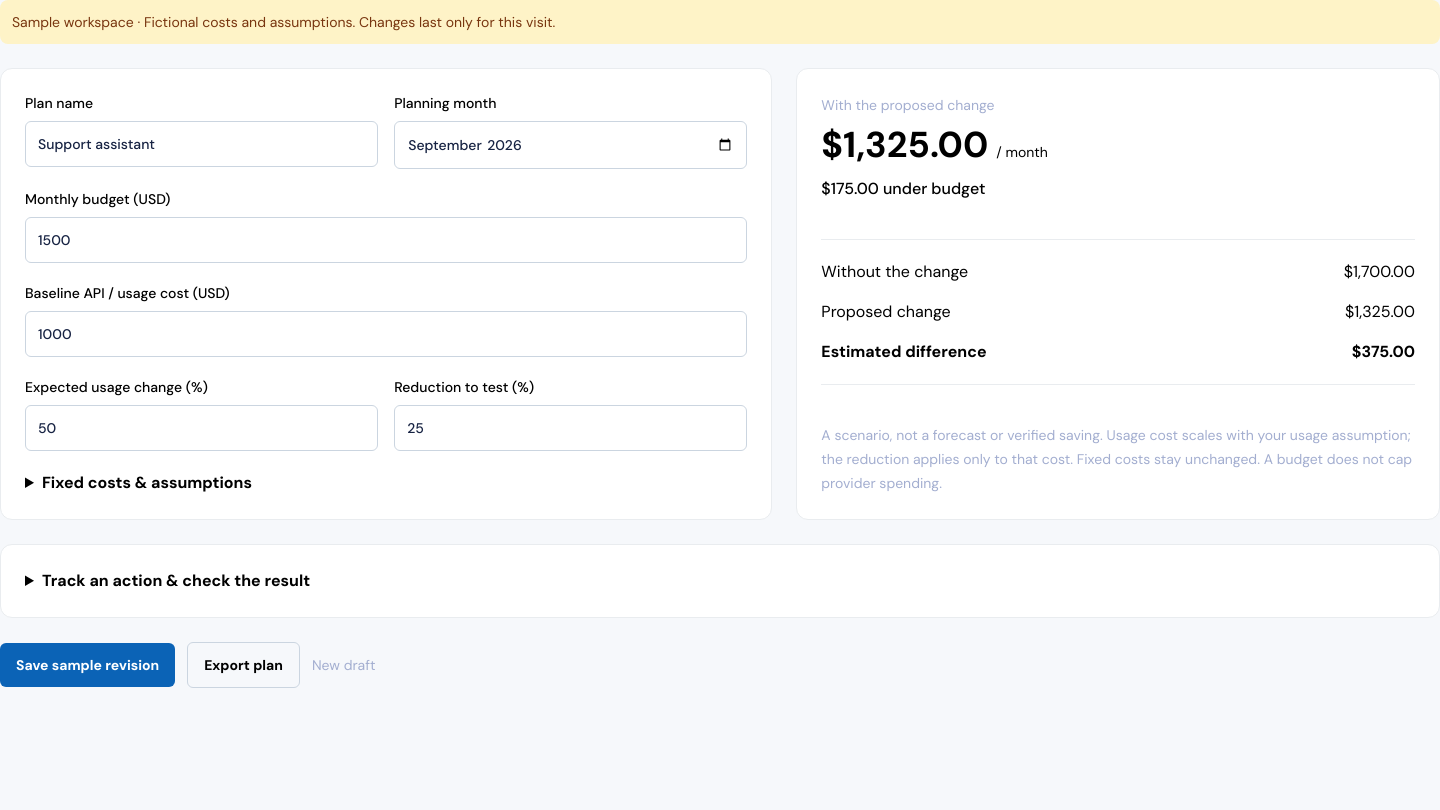
sample scenario is interactive without reading or writing account data
This screenshot has width=1440, height=810.
Expected: the text "Fictional costs" is shown, 12,13 -> 555,31
Expected: the text "$1,325.00" is shown 2 times, 821,121 -> 1048,168; 1345,300 -> 1415,324
Step 1. Replace the text in the number field labelled "Reduction to test (%)" with "50" → (571, 428), box 394,405 -> 747,451
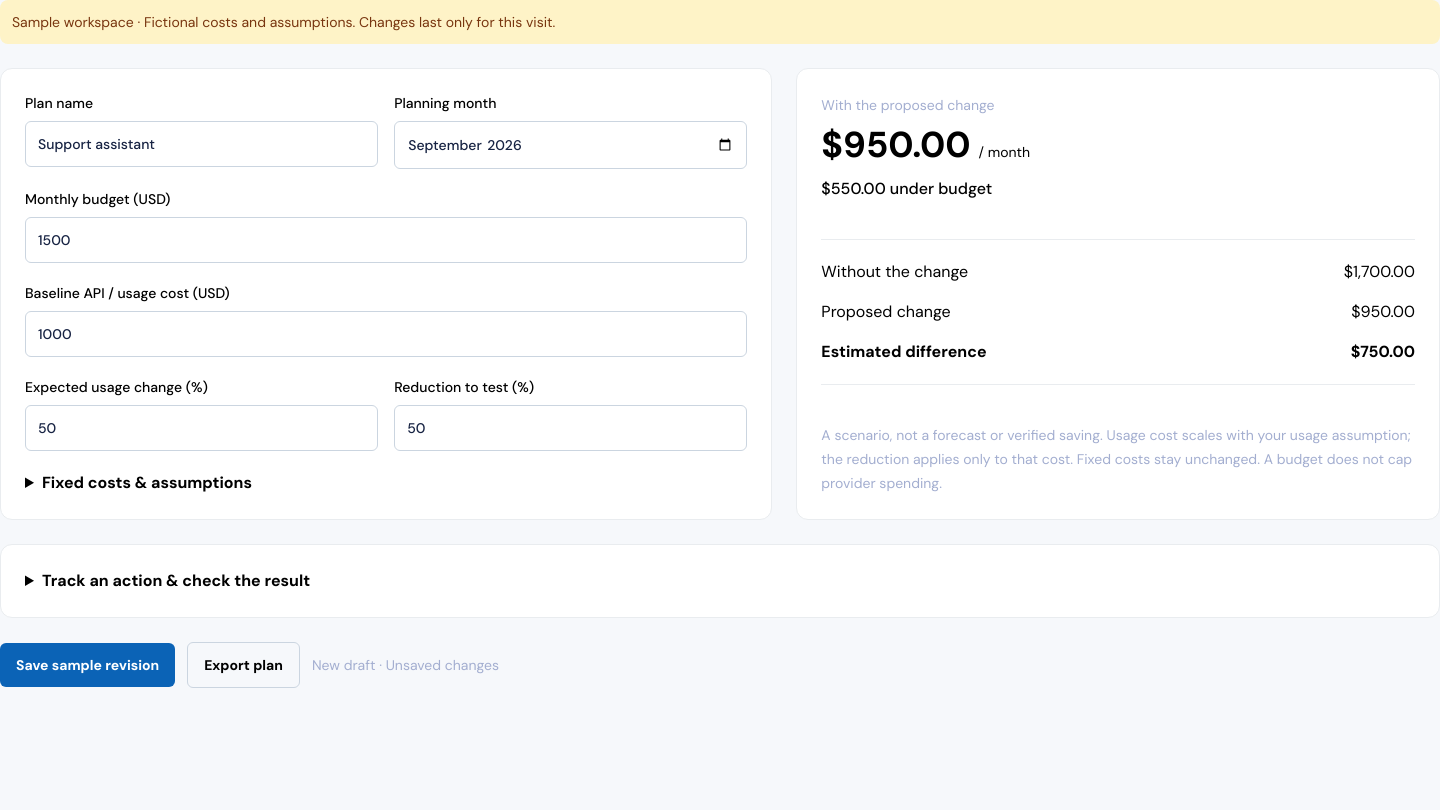
Expected: the text "$950.00" is shown 2 times, 821,121 -> 1030,168; 1351,300 -> 1415,324
Step 2. Click the button "Save sample revision" → (88, 665), box 0,643 -> 175,687
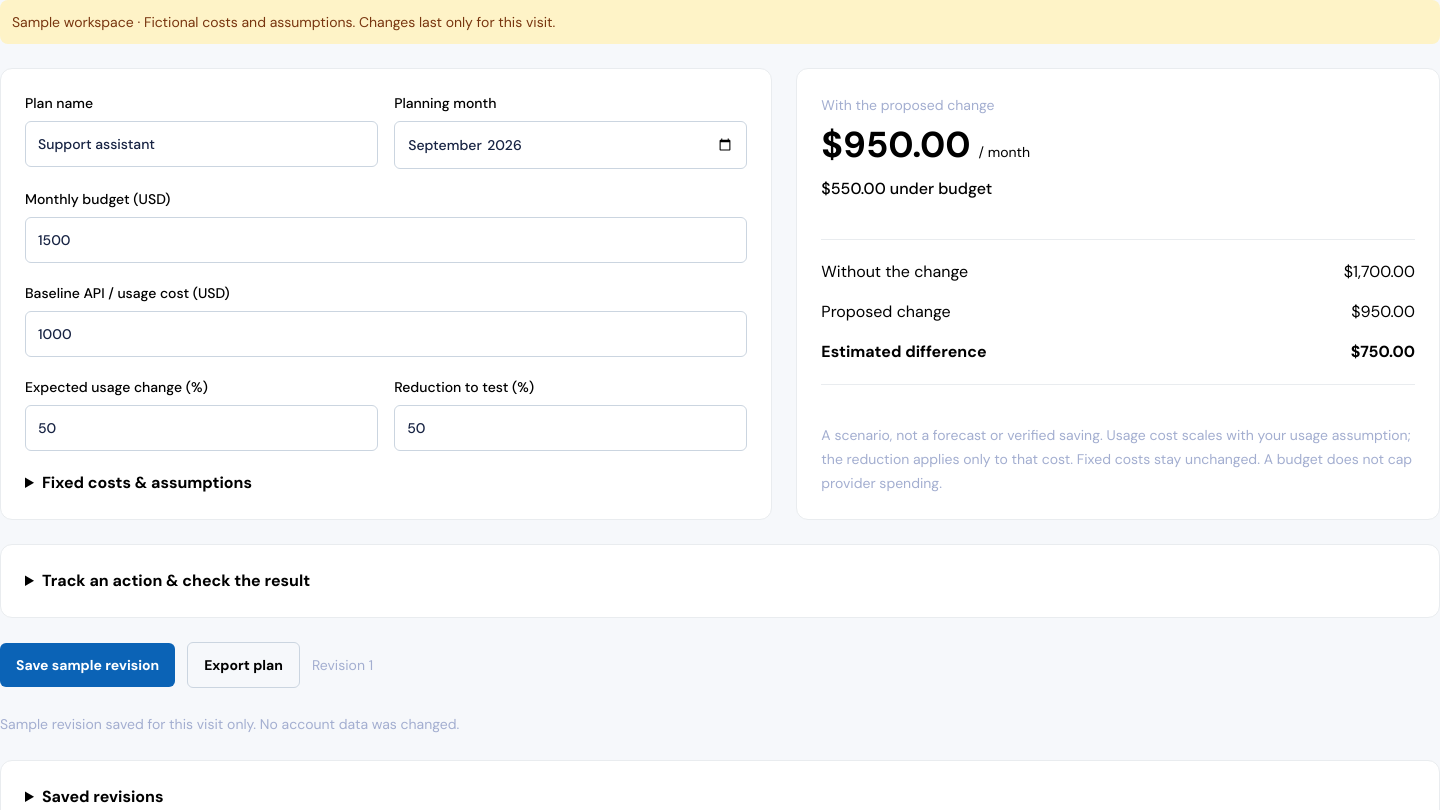
Result: the text "Sample revision saved for this visit only. No account data was changed." is shown at 0,715 -> 459,733
